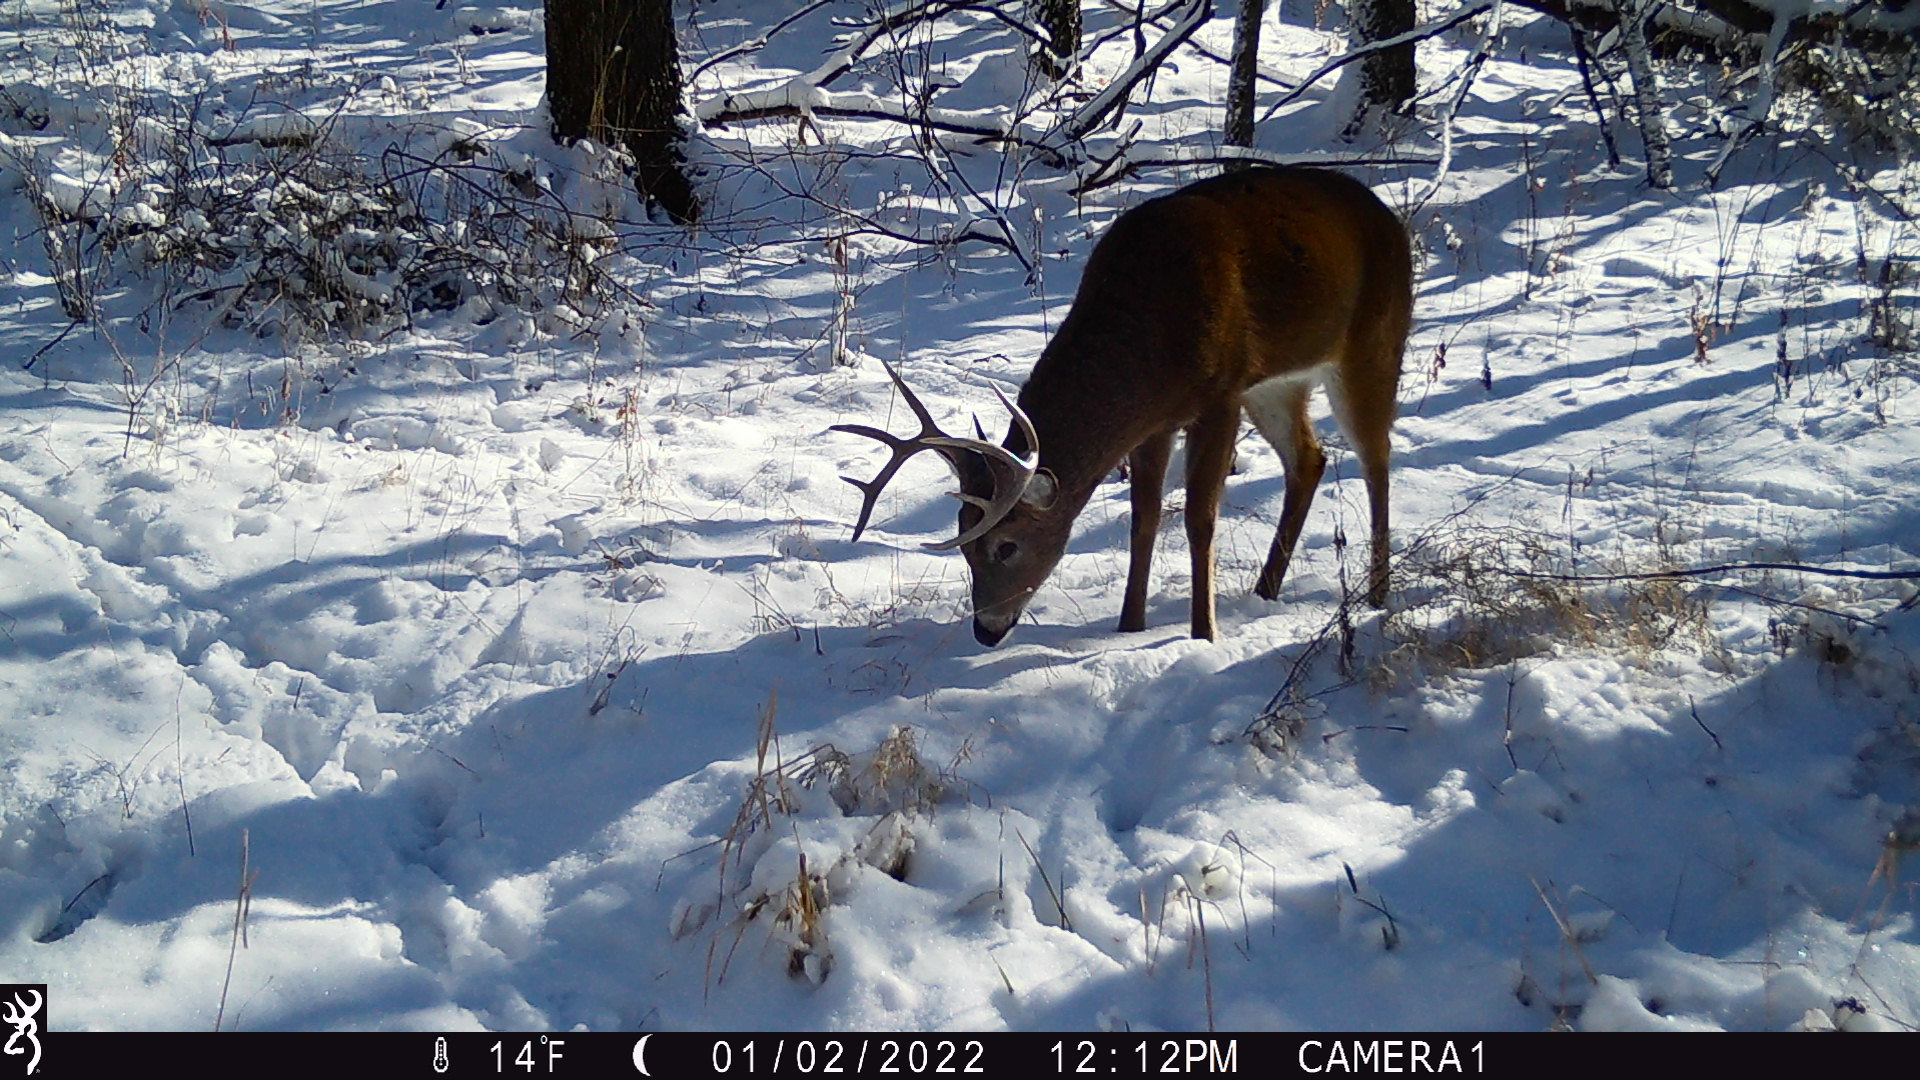DeerBuck: (829, 163, 1415, 645)
DeerBuckHead: (829, 356, 1066, 646)
